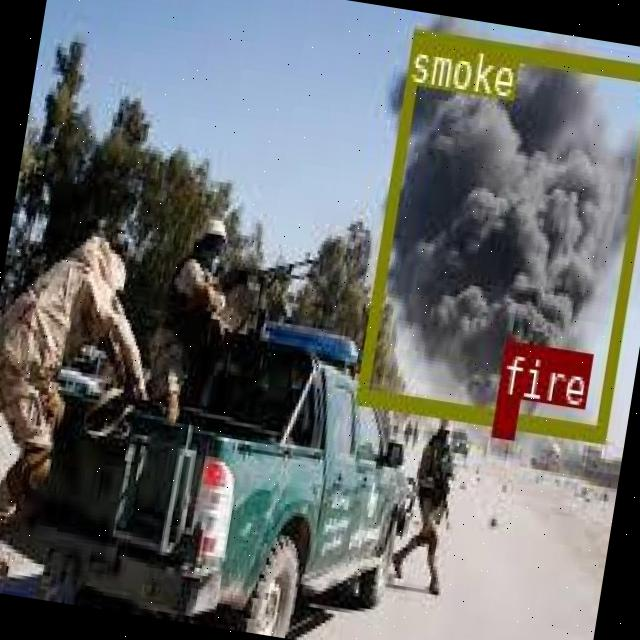fire: (491, 394, 516, 436)
smoke: (355, 26, 640, 440)
